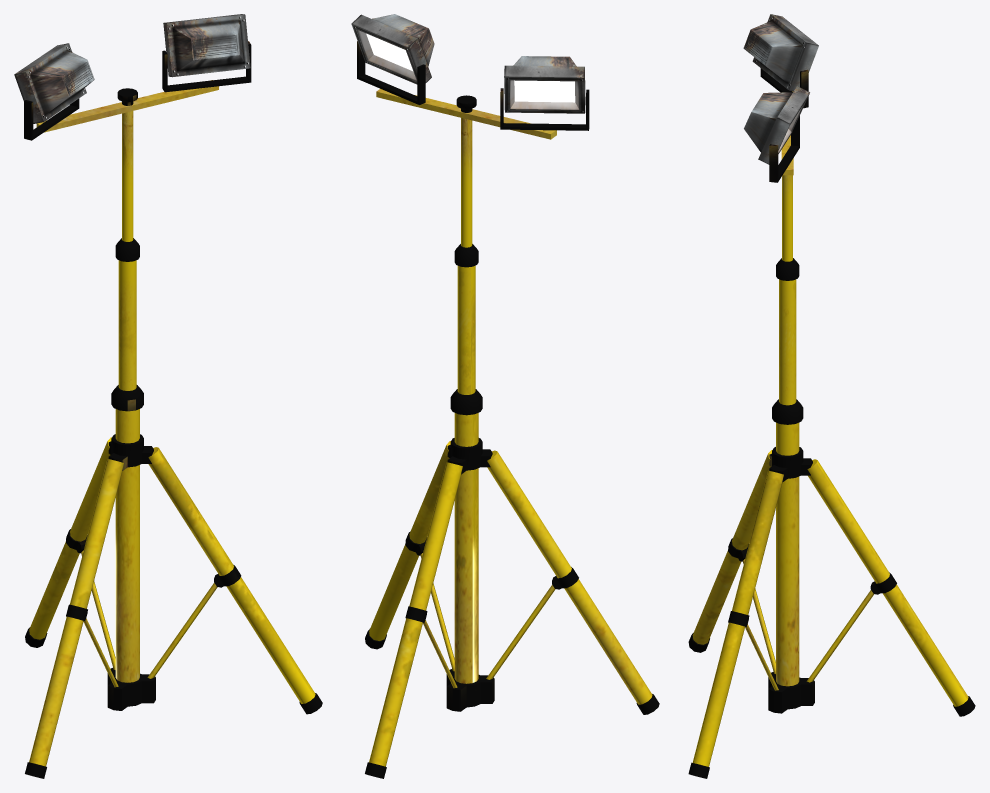
Rendered from WorkLamp_Floor_ALL.FBX.
3 views of the same model, side by side, from view 1: azimuth 30°, elevation 25°; view 2: azimuth 150°, elevation 25°; view 3: azimuth 270°, elevation 25° (orthographic). The views are drawn at different scales.
Visible parts, largest first — view 1: Stand_LOD0; view 2: Stand_LOD0, Source1, Source2; view 3: Stand_LOD0.
Part boxes in pixels (left/top/right/bottom): Stand_LOD0: left=14, top=14, right=322, bottom=778; Stand_LOD0: left=351, top=14, right=659, bottom=778; Source1: left=514, top=80, right=575, bottom=102; Source2: left=366, top=33, right=413, bottom=71; Stand_LOD0: left=688, top=14, right=975, bottom=778.
Size of what is drawn, in the model's own units: 837 by 1828 by 732.
